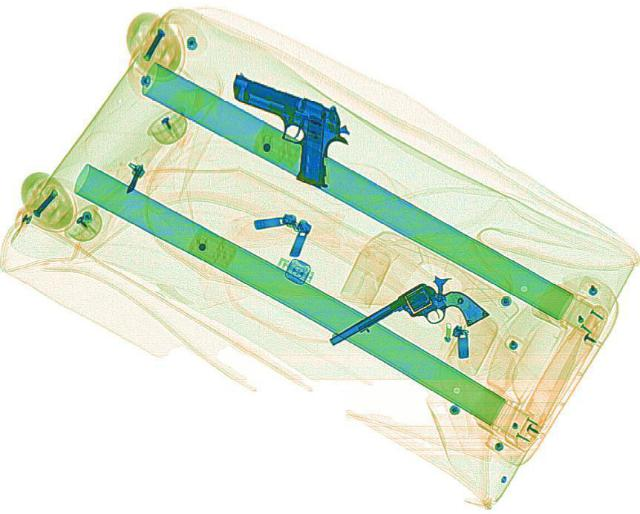Gun: (190, 70, 368, 187), (322, 267, 490, 380)
